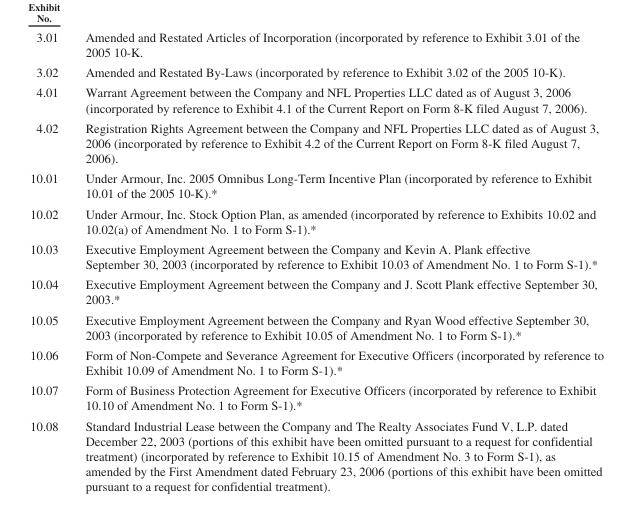table: (29, 29, 603, 493)
table column: (71, 29, 603, 493), (29, 29, 71, 493)
table row: (29, 415, 603, 493), (29, 117, 603, 167), (29, 81, 603, 117), (29, 167, 603, 203), (29, 273, 603, 309), (29, 379, 603, 415), (29, 203, 603, 238), (29, 238, 603, 273), (29, 309, 603, 344), (29, 344, 603, 379), (29, 29, 603, 61), (29, 61, 603, 81)
